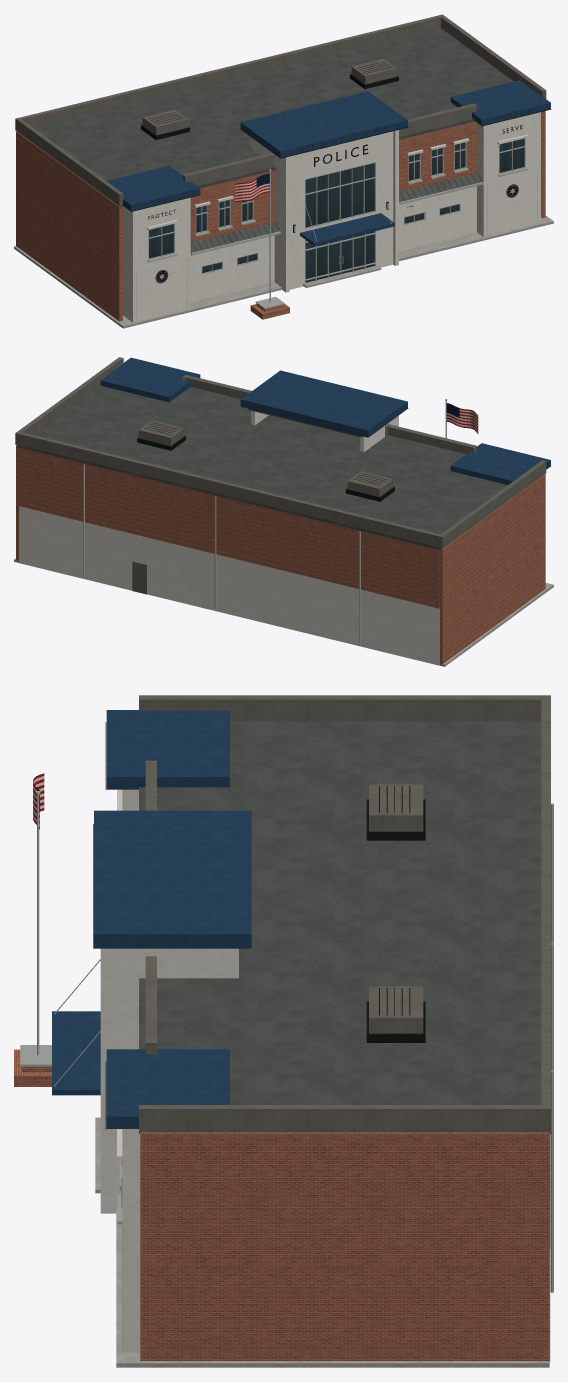
File: police_station.fbx
3 views of the same model, one above another, from view 1: azimuth 30°, elevation 25°; view 2: azimuth 150°, elevation 25°; view 3: azimuth 270°, elevation 25° (orthographic). The views are drawn at different scales.
Parts seen in each view (by area): view 1: PoliceStation_LOD0_0; view 2: PoliceStation_LOD0_0; view 3: PoliceStation_LOD0_0.
Part boxes in pixels (bbox=[...]): PoliceStation_LOD0_0: bbox=[14, 14, 553, 328]; PoliceStation_LOD0_0: bbox=[14, 357, 553, 666]; PoliceStation_LOD0_0: bbox=[14, 695, 553, 1367].
Bounding box in the file's own units: 3280 × 1050 × 1795.
Materials: 1 (1 with a texture image).
